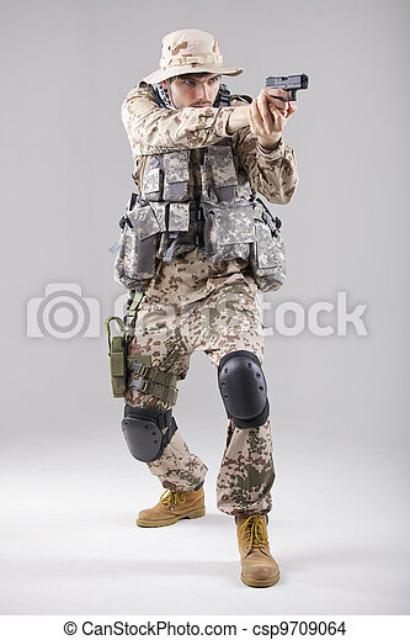other: (108, 30, 282, 574)
